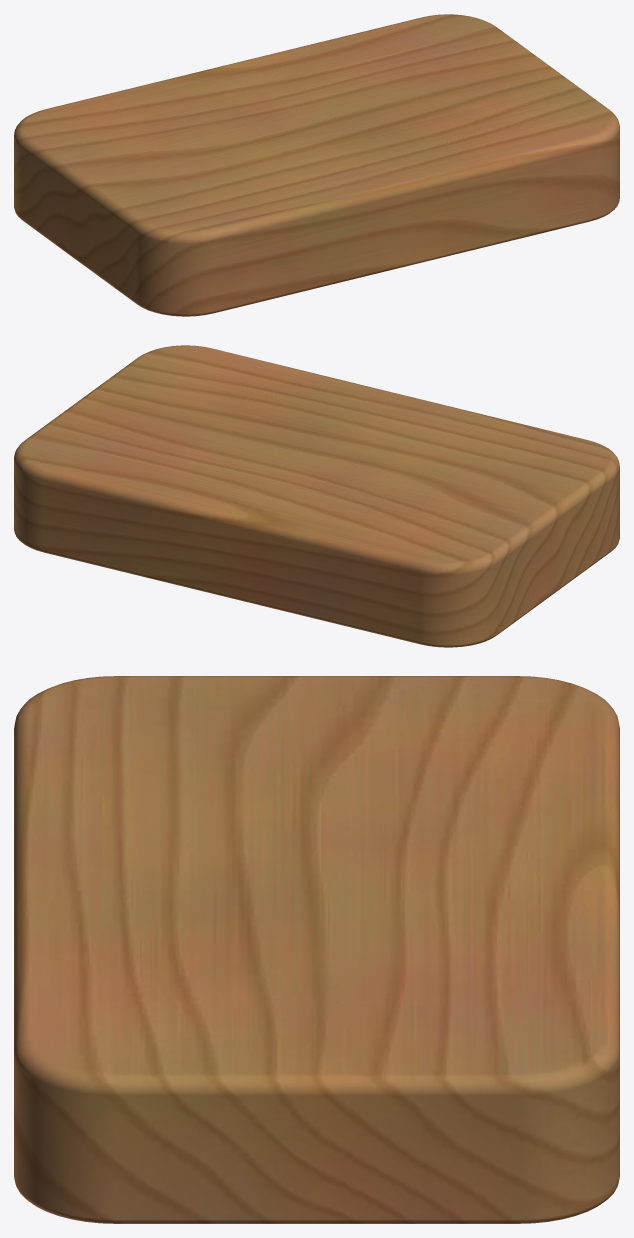
Rendered from s01-pedestal.glb.
3 renders of one model, top to bottom at view 1: azimuth 30°, elevation 25°; view 2: azimuth 150°, elevation 25°; view 3: azimuth 270°, elevation 25°, orthographic. The views are drawn at different scales.
Visible parts, largest first — view 1: S01_Pedestal; view 2: S01_Pedestal; view 3: S01_Pedestal.
Part boxes in pixels (<box>): S01_Pedestal: <box>14,14,619,316</box>; S01_Pedestal: <box>14,345,619,647</box>; S01_Pedestal: <box>14,676,619,1223</box>.
Bounding box in the file's own units: 0.041 × 0.0068 × 0.0256.
1 material, 1 textured.
